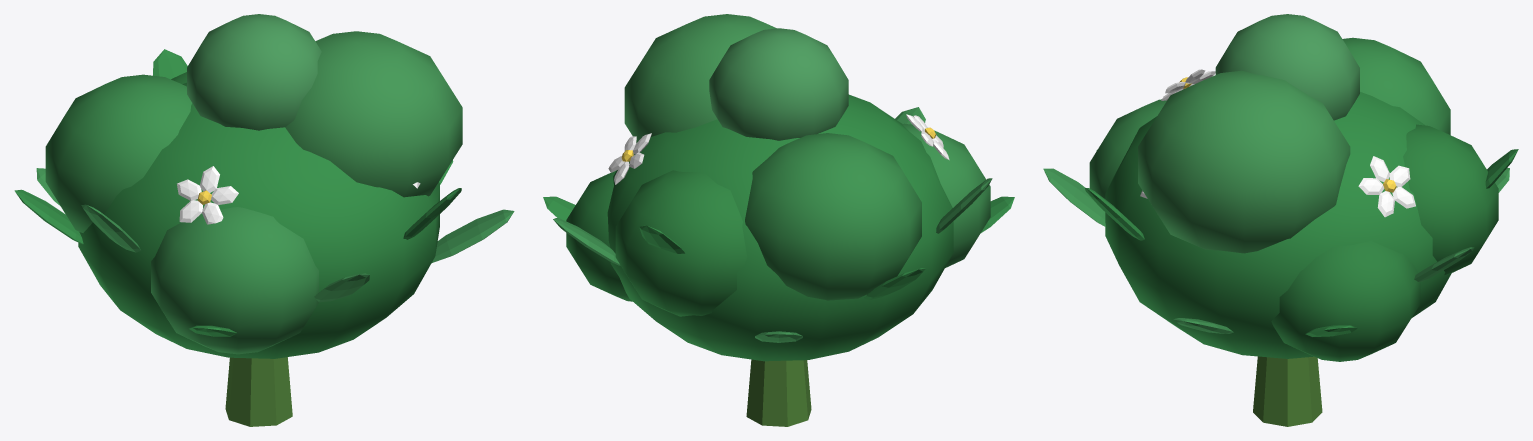
Rendered from Planta_Blueberry.fbx.
3 renders of one model, left to right at view 1: azimuth 30°, elevation 25°; view 2: azimuth 150°, elevation 25°; view 3: azimuth 270°, elevation 25°, orthographic. The views are drawn at different scales.
Parts seen in each view (by area): view 1: Corpo_Blueberry; view 2: Corpo_Blueberry; view 3: Corpo_Blueberry.
Part boxes in pixels (box(x1,y1,x2,y2)): Corpo_Blueberry: box(14, 14, 514, 426); Corpo_Blueberry: box(543, 14, 1014, 426); Corpo_Blueberry: box(1043, 14, 1518, 426).
Size of the model in its own units: 2.2 by 1.98 by 2.19.
1 material, 1 textured.
